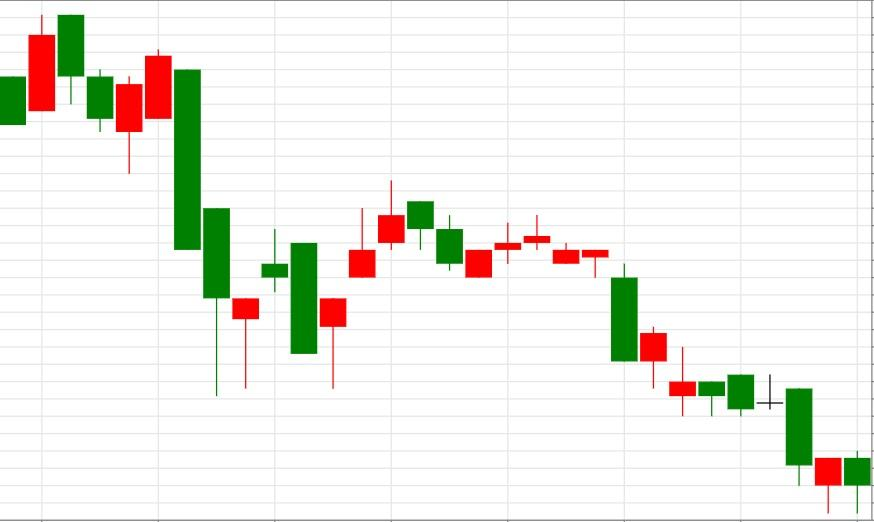hammer_rise: (144, 49, 260, 396)
